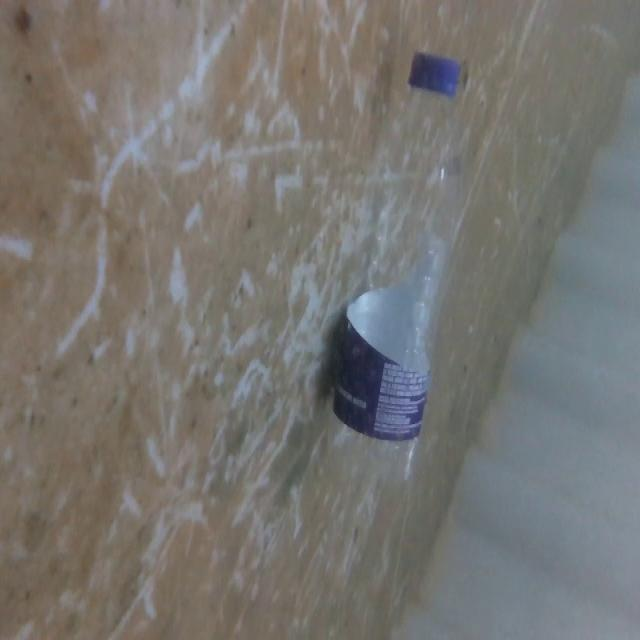plastic bottle: (323, 52, 468, 502)
